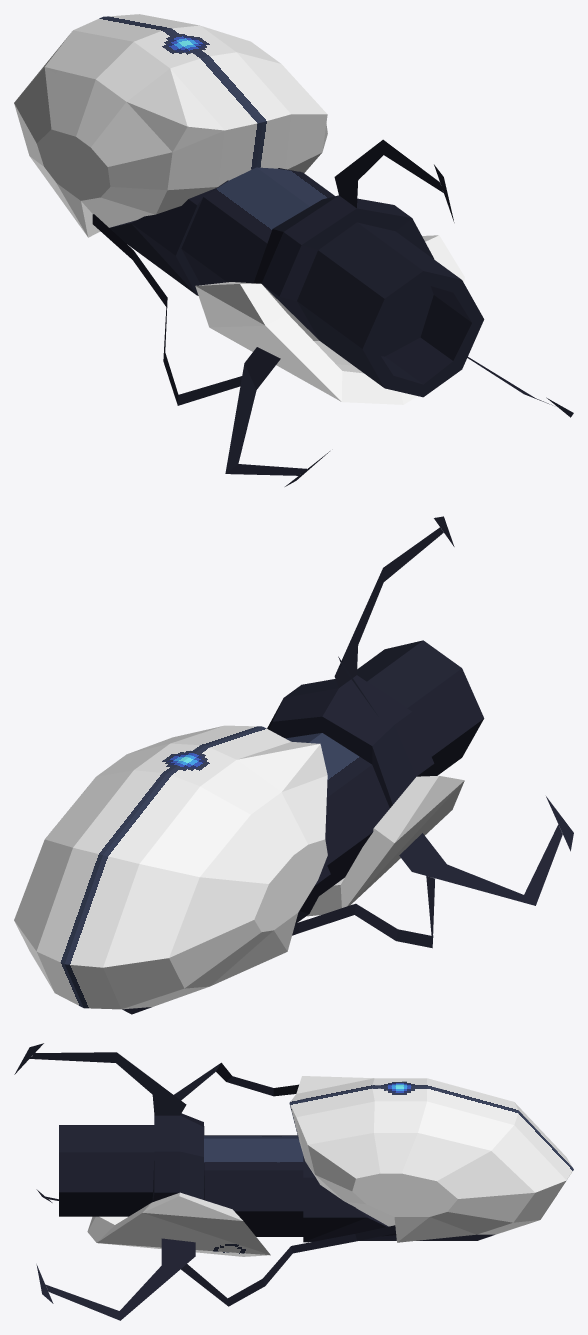
Rendered from low-poly_portal_gun.glb.
3 views of the same model, one above another, from view 1: azimuth 30°, elevation 25°; view 2: azimuth 150°, elevation 25°; view 3: azimuth 270°, elevation 25° (orthographic). The views are drawn at different scales.
Visible parts, largest first — view 1: Object_2; view 2: Object_2; view 3: Object_2.
Boxes of the visible parts, <box> form: Object_2: <box>14,14,573,486</box>; Object_2: <box>14,516,573,1014</box>; Object_2: <box>14,1043,573,1320</box>.
Size of the model in its own units: 0.4004 by 0.3836 by 0.8714.
Materials: 1 (1 with a texture image).
